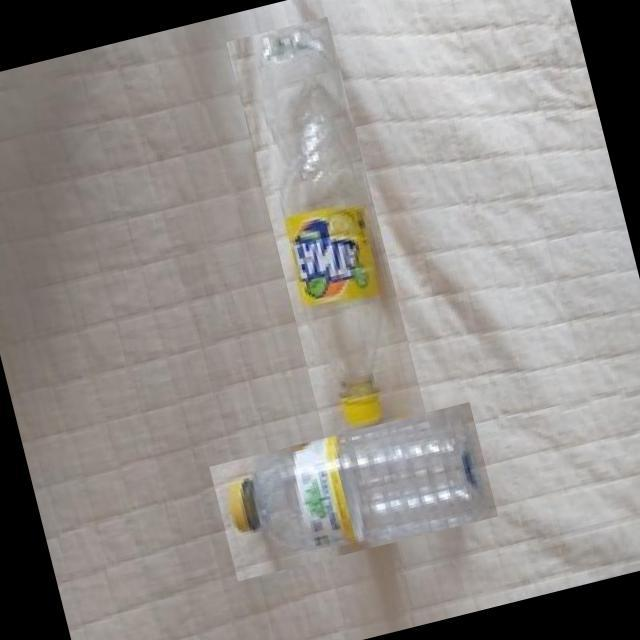good: (225, 16, 424, 437), (208, 401, 497, 580)
